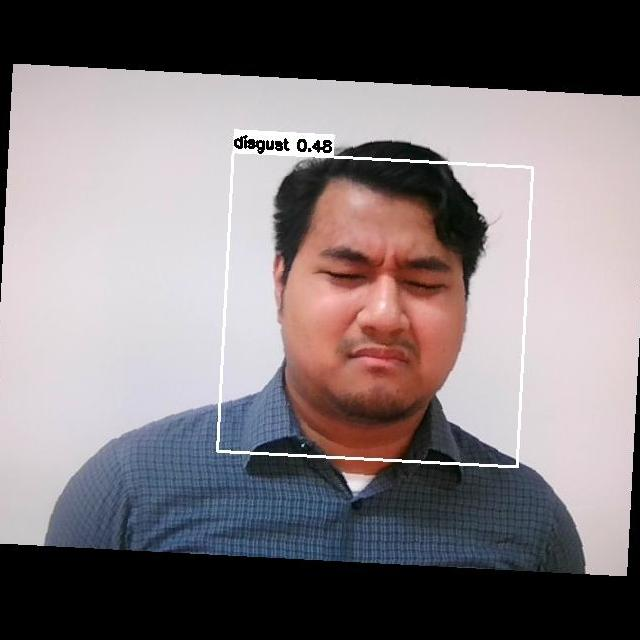Disgust: (291, 222, 472, 396)
